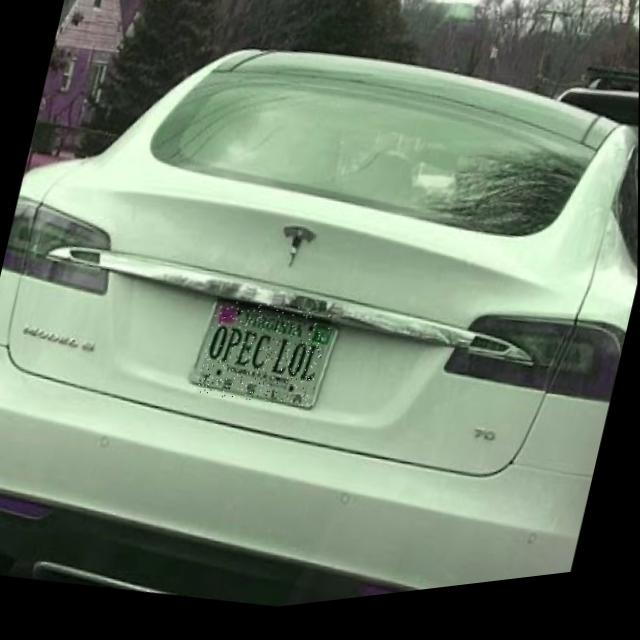license_plate: (195, 292, 334, 425)
